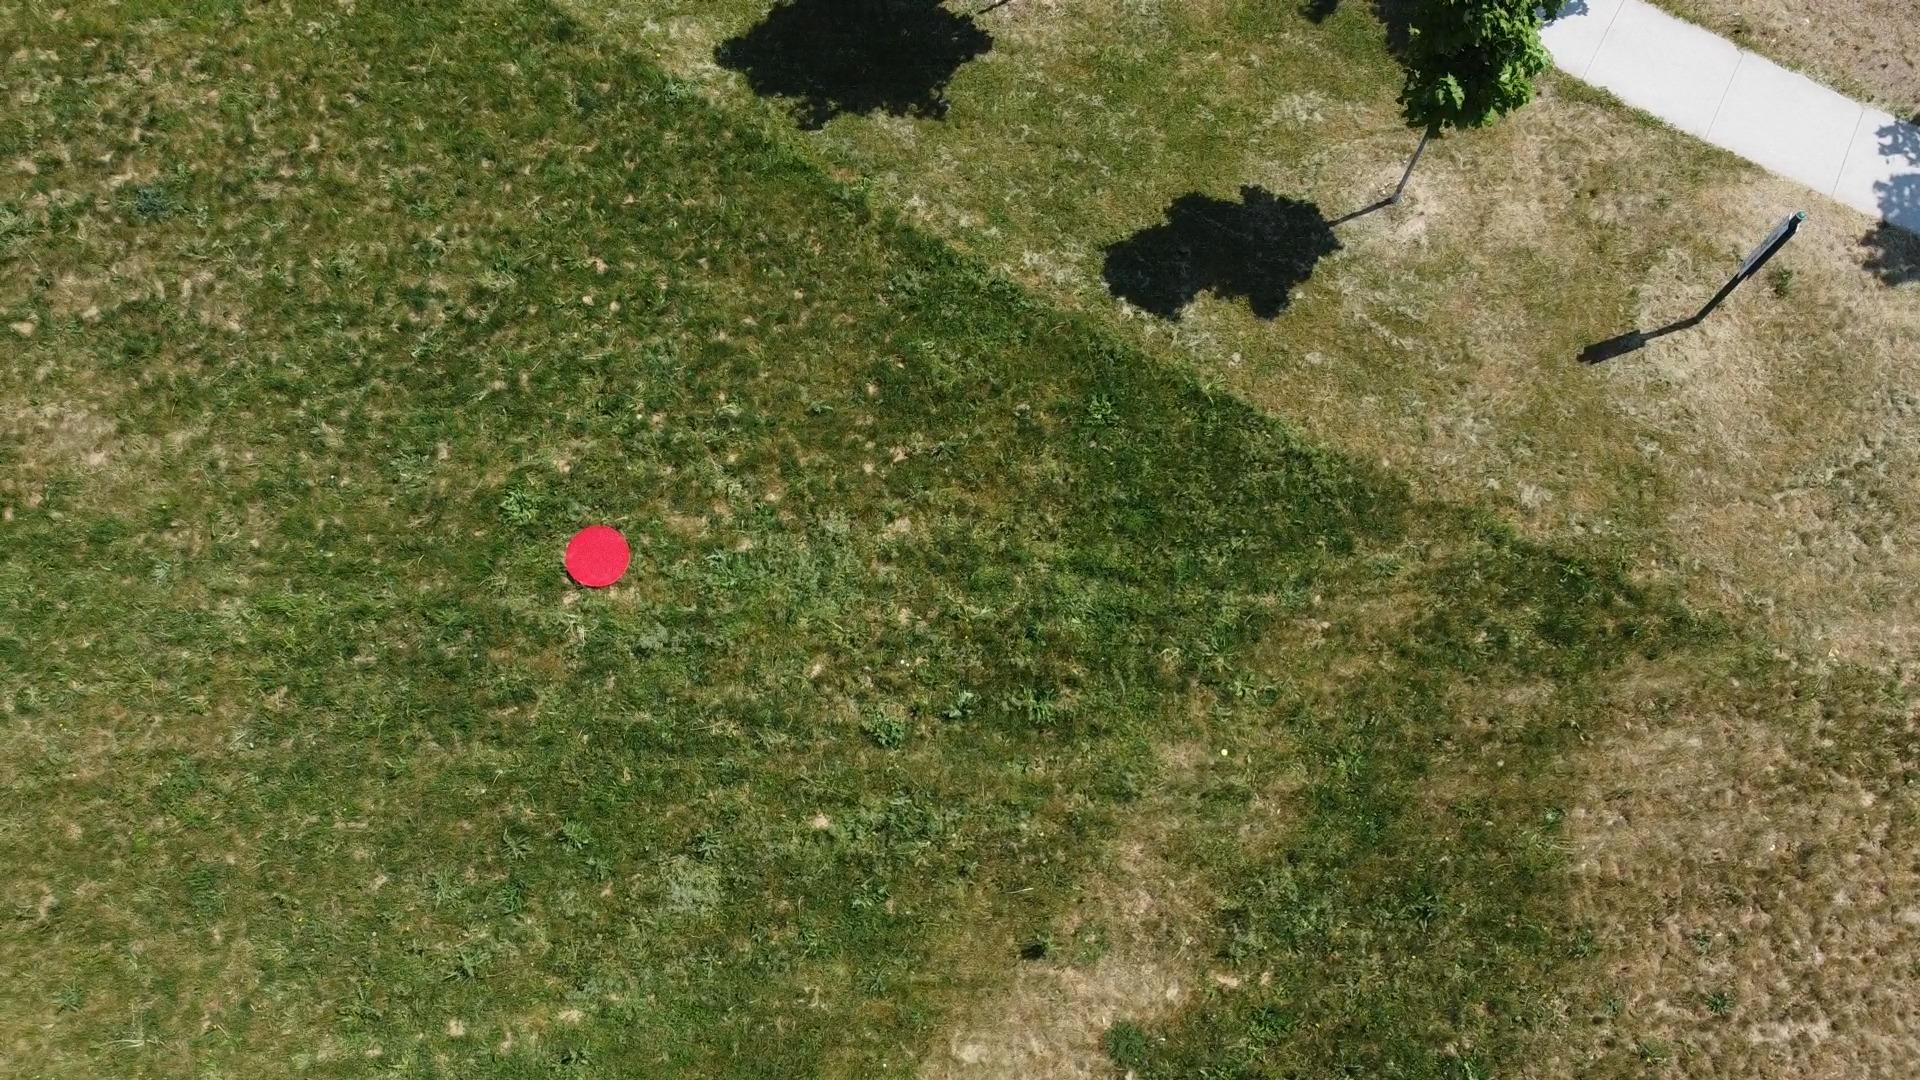Red: (562, 524, 633, 592)
